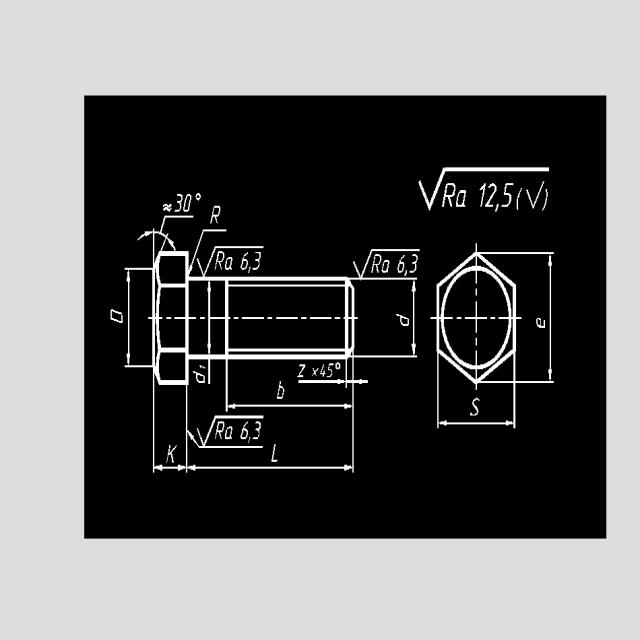marking_line: (228, 398, 350, 416), (188, 464, 353, 472), (544, 257, 553, 382), (124, 274, 135, 364), (441, 419, 514, 428), (409, 282, 417, 355), (156, 463, 186, 474)
numeric: (444, 179, 515, 213), (215, 249, 272, 276), (216, 419, 263, 445), (374, 251, 422, 276), (175, 189, 193, 213)
special_symbol: (351, 239, 383, 279), (187, 220, 208, 275), (134, 225, 179, 250), (187, 413, 214, 450), (525, 176, 547, 210), (196, 245, 220, 275), (205, 202, 223, 226)
